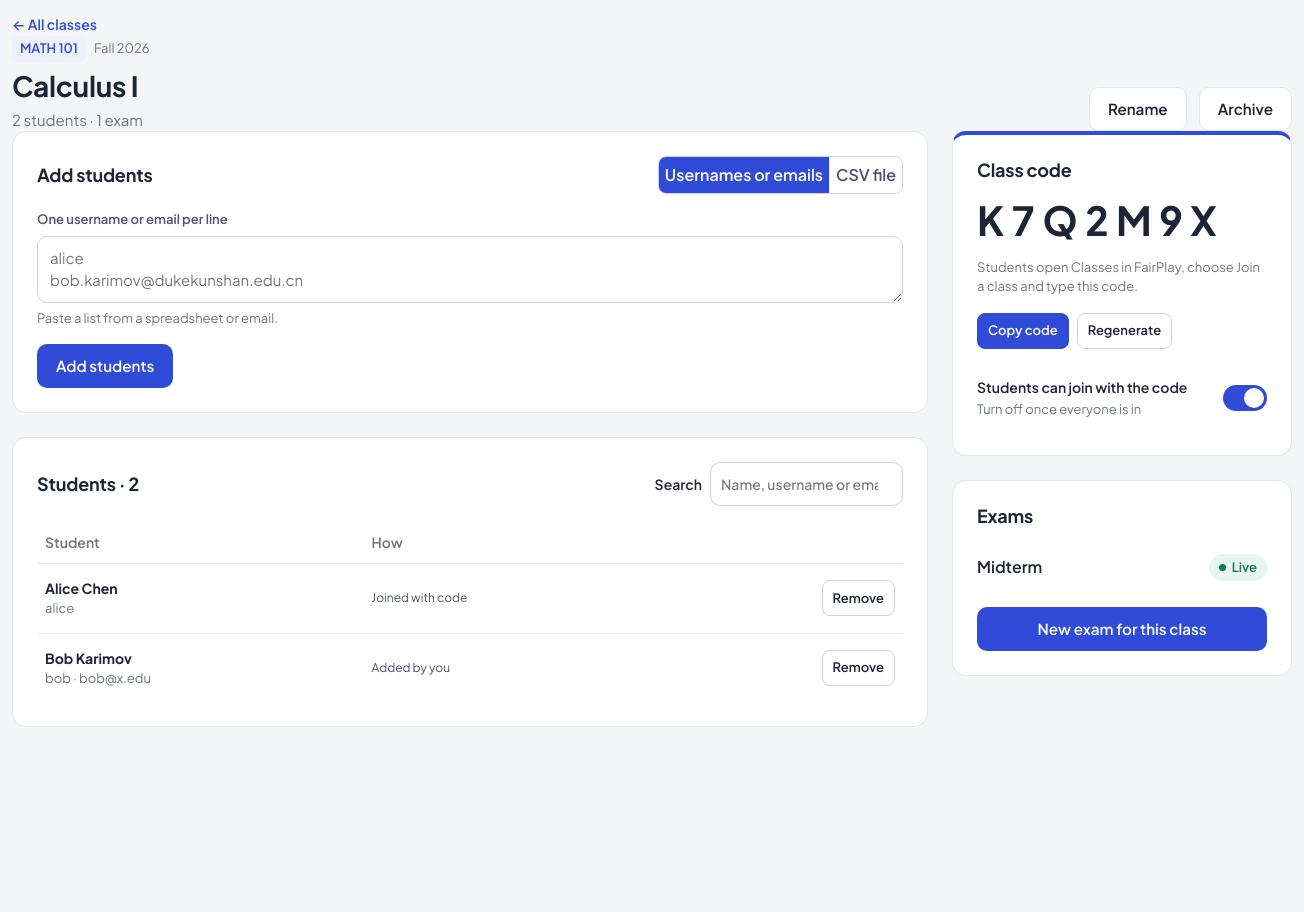
teacher ClassPage › searches and removes a student
expect the heading "Calculus I" is shown: met, box left=12, top=68, right=150, bottom=102
Step 1. Type "bob@" into the search field labelled "Search" → (806, 484), box left=710, top=462, right=903, bottom=506
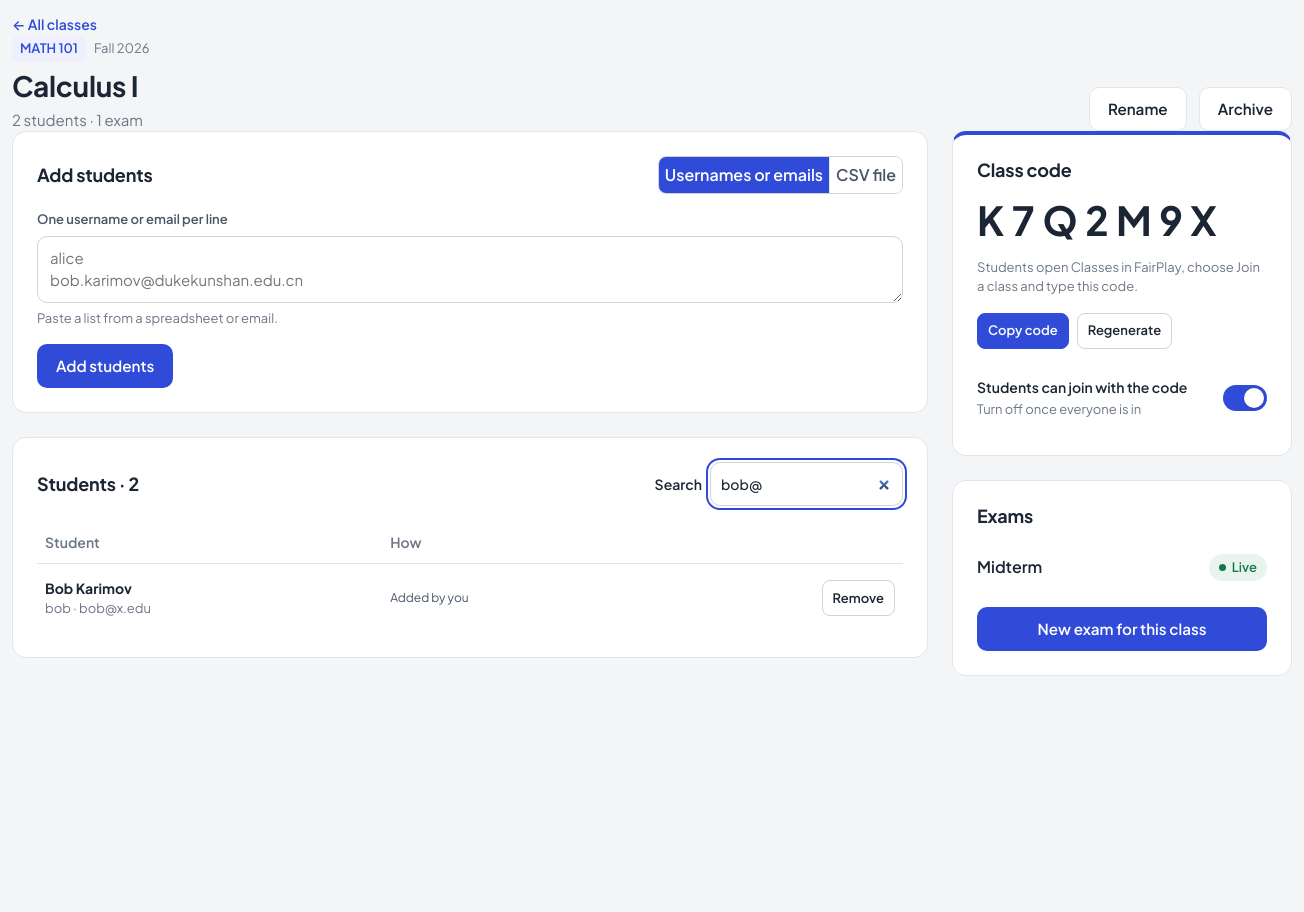
expect the text "Bob Karimov" is shown: met, box left=45, top=579, right=132, bottom=597
expect the text "Alice Chen" is gone: met
Step 2. Clear the search field labelled "Search" → (806, 484), box left=710, top=462, right=903, bottom=506
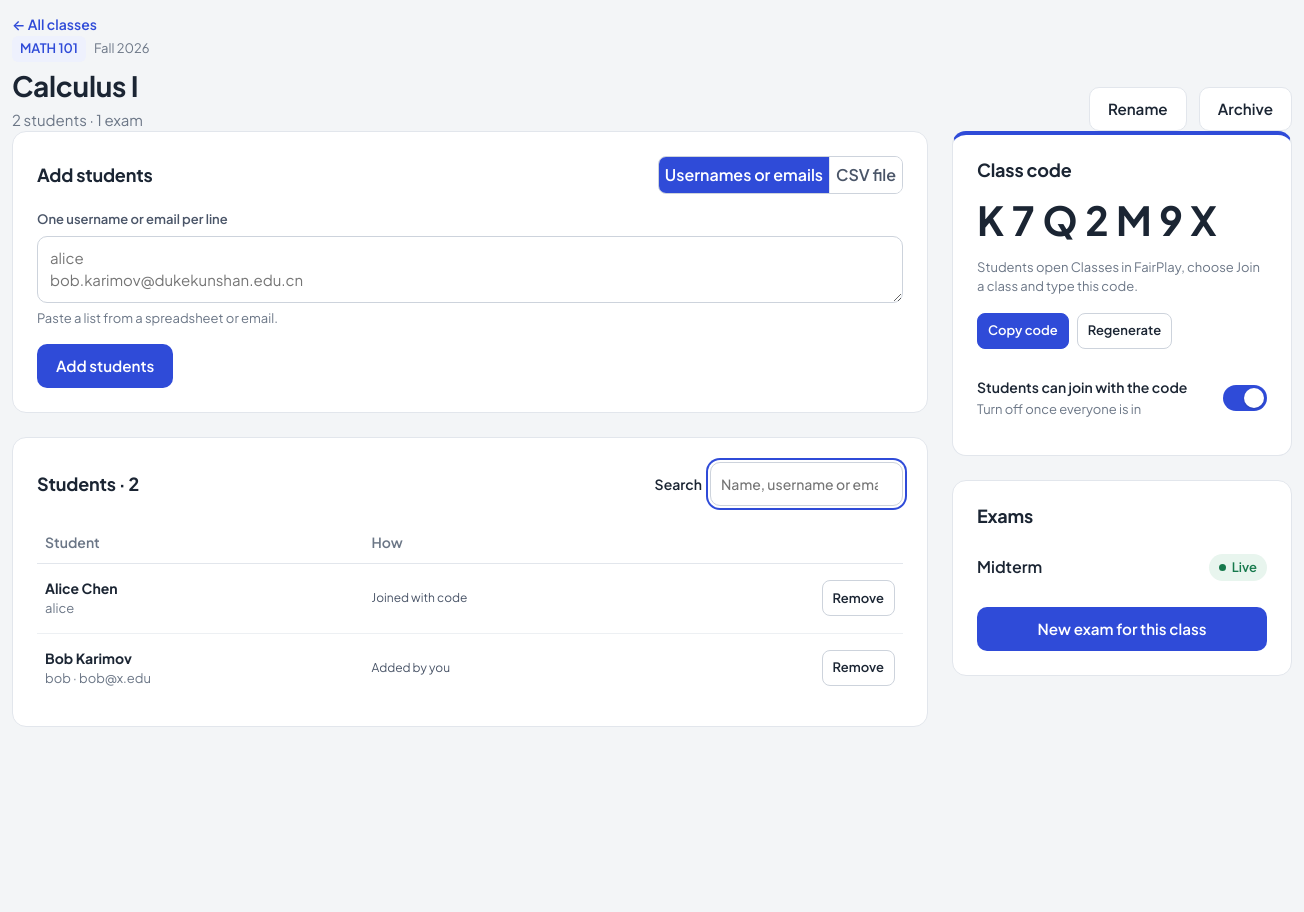
Step 3. Click the button with aria-label "Remove Alice Chen" → (858, 598), box left=822, top=580, right=895, bottom=616
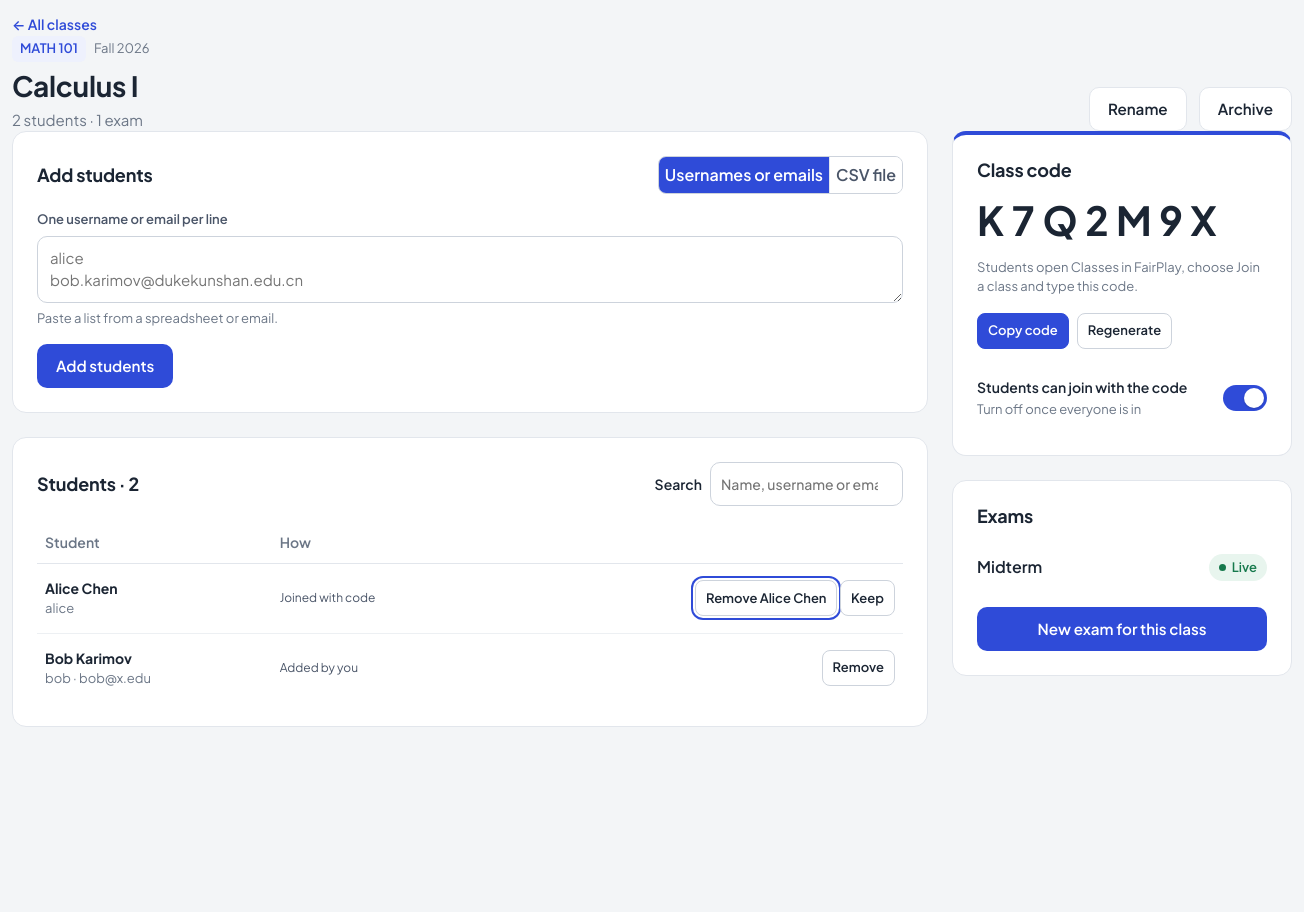
Step 4. Click the button "Remove Alice Chen" → (766, 598), box left=695, top=580, right=838, bottom=616
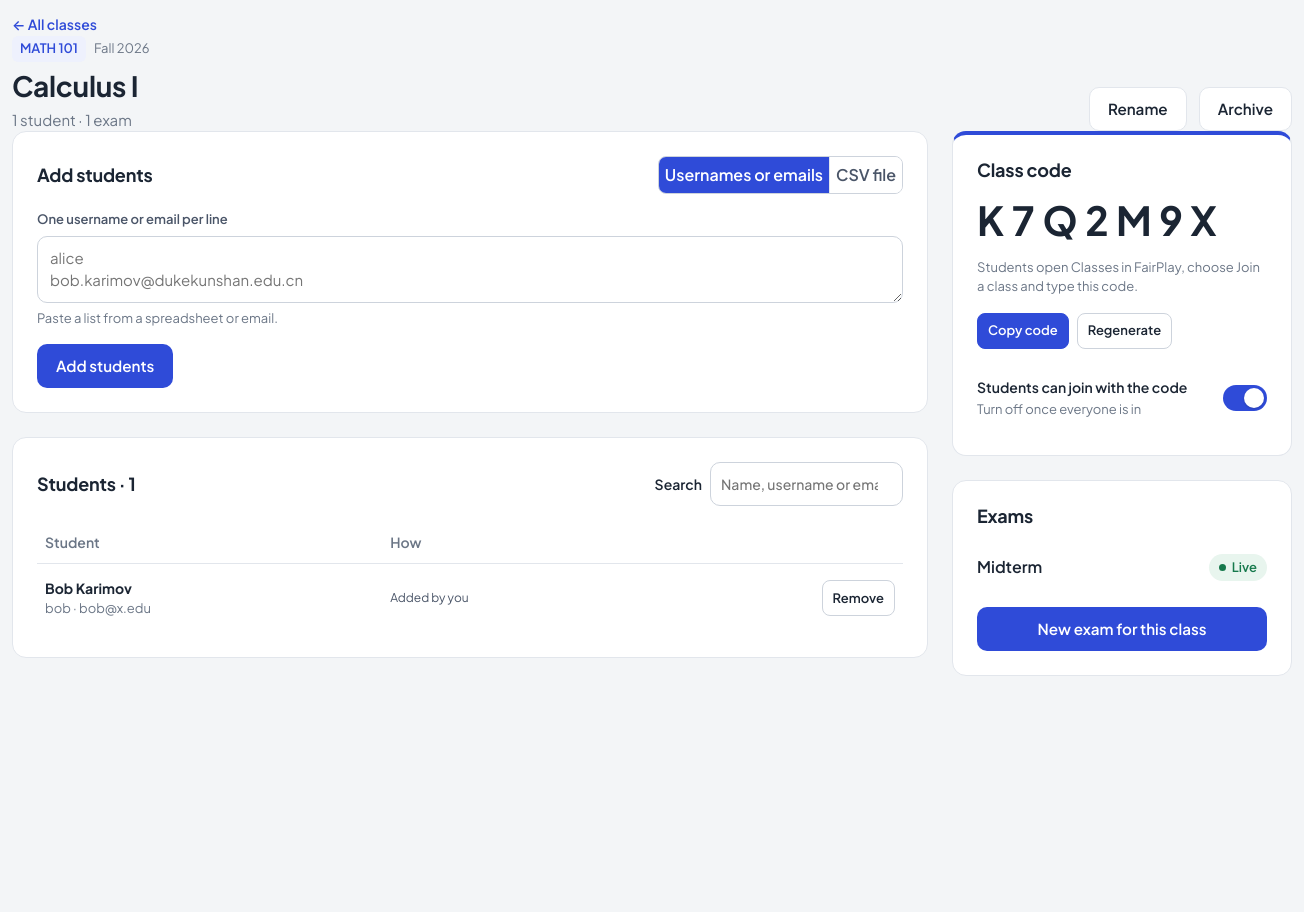
expect the text "Alice Chen" is gone: met
expect the heading "Students · 1" is shown: met, box left=37, top=473, right=136, bottom=495
